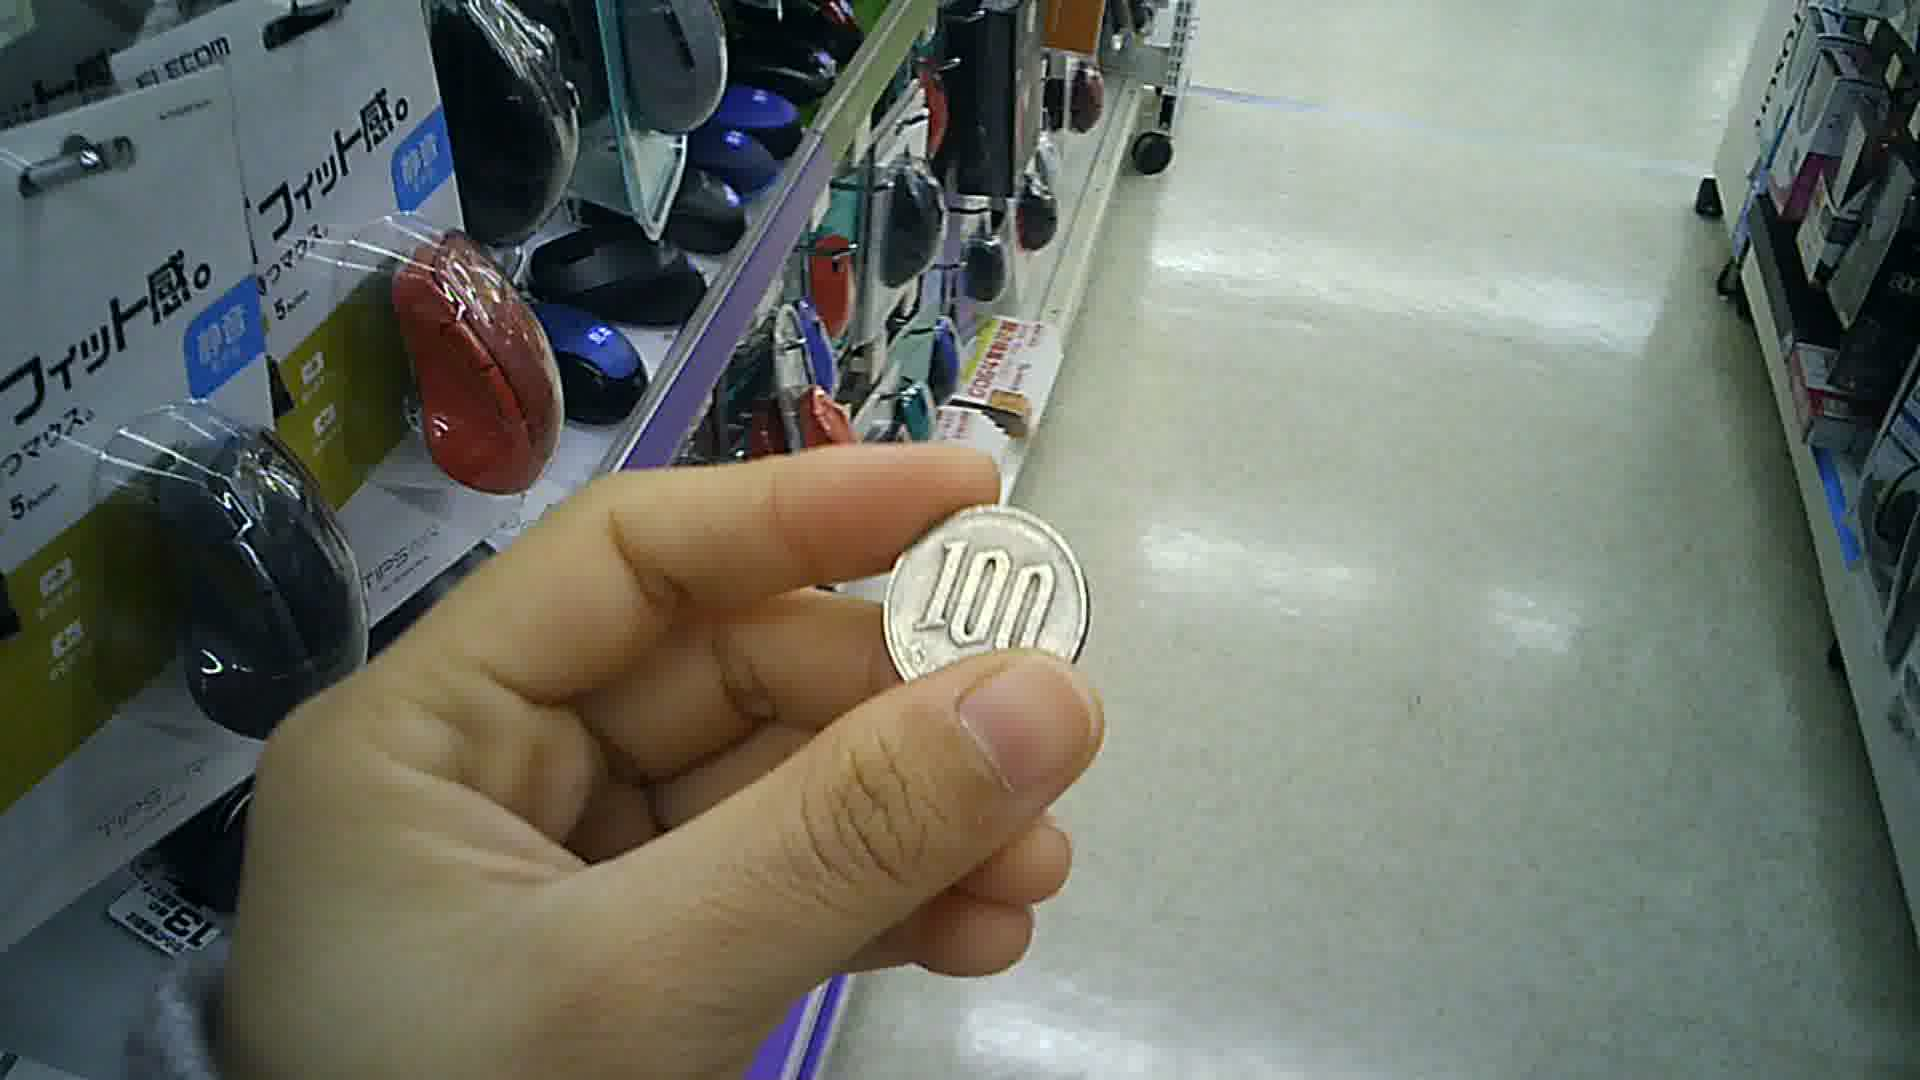100 Yen: (877, 493, 1097, 707)
